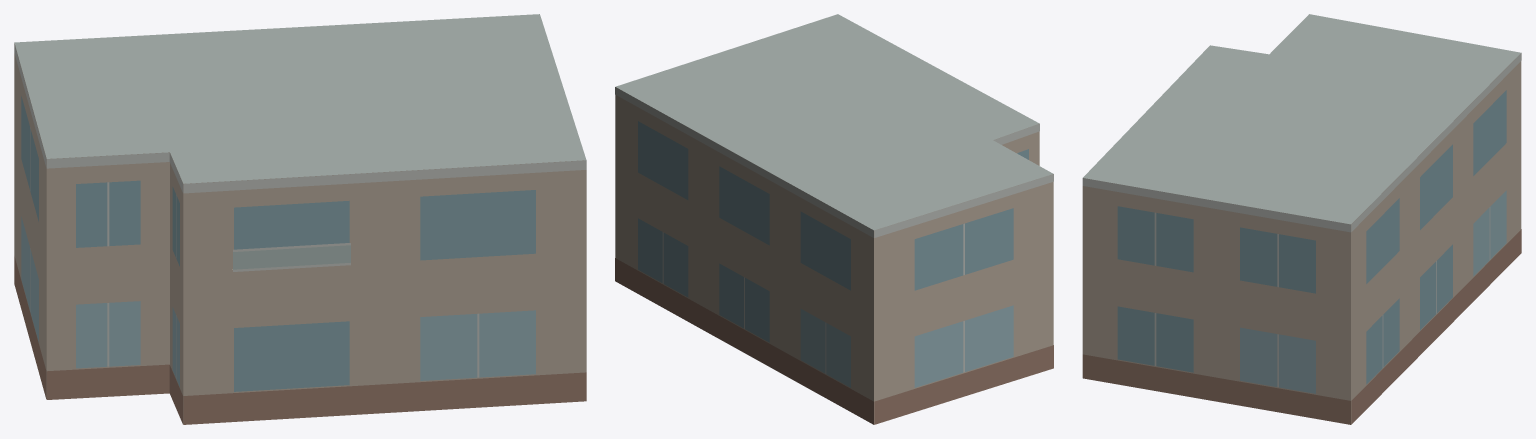
Rendered from survey-upis-32661979.glb.
The picture shows the model from 3 angles, left to right: view 1: azimuth 30°, elevation 25°; view 2: azimuth 150°, elevation 25°; view 3: azimuth 270°, elevation 25°; orthographic projection. The views are drawn at different scales.
Visible parts, largest first — view 1: survey-upis-32661979.tmp; view 2: survey-upis-32661979.tmp; view 3: survey-upis-32661979.tmp.
Part boxes in pixels (x1=…): survey-upis-32661979.tmp: x1=14, y1=14, x2=586, y2=424; survey-upis-32661979.tmp: x1=615, y1=14, x2=1053, y2=424; survey-upis-32661979.tmp: x1=1082, y1=14, x2=1521, y2=424.
Bounding box in the file's own units: 13.74 × 6.1 × 12.11.
